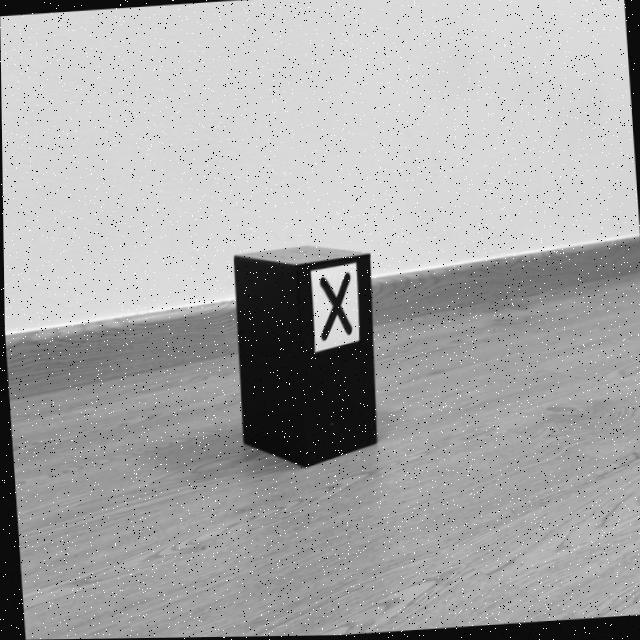X: (319, 273, 351, 341)
